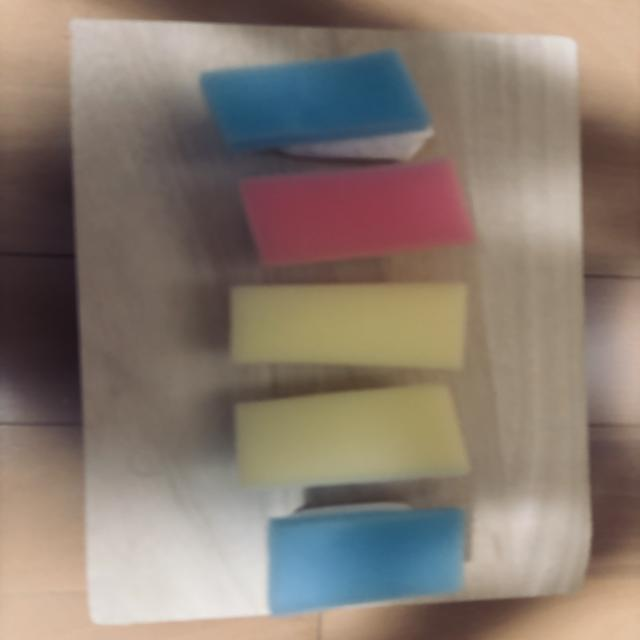NG: (201, 50, 433, 161)
ika: (268, 502, 466, 616)
tai: (240, 160, 475, 266)
tamago: (234, 383, 470, 488), (230, 282, 468, 370)
